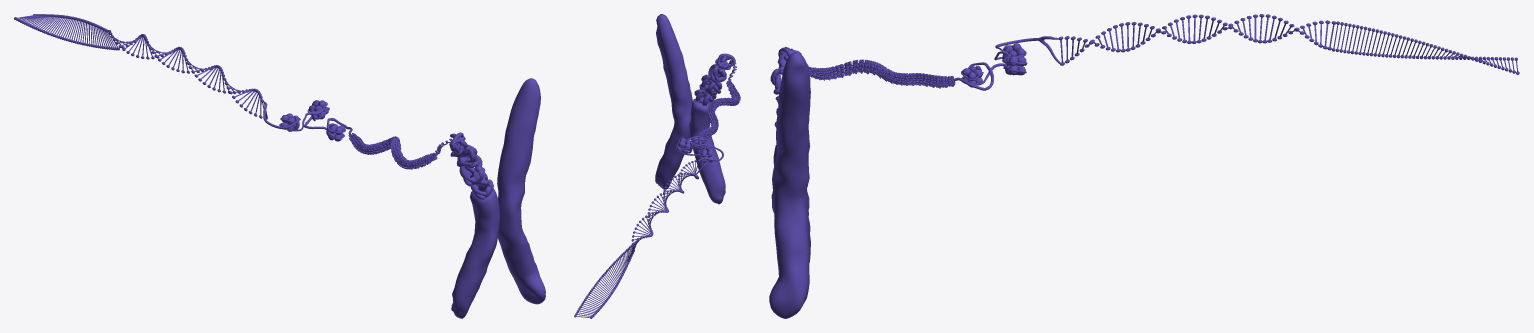
The model's file is nst_compressed.glb.
3 views of the same model, side by side, from view 1: azimuth 30°, elevation 25°; view 2: azimuth 150°, elevation 25°; view 3: azimuth 270°, elevation 25° (orthographic). The views are drawn at different scales.
Visible parts, largest first — view 1: poly, 0000_straight_DNA_straight_dna_M_0, poly1, 0010_nuclosome_helix_nuclosome_helix_M_0; view 2: poly, 0000_straight_DNA_straight_dna_M_0, poly1, 0010_nuclosome_helix_nuclosome_helix_M_0, 0009_histones_2_histone_two_0, 0008_histones_3_histone_three_0; view 3: poly, 0000_straight_DNA_straight_dna_M_0, 0010_nuclosome_helix_nuclosome_helix_M_0.
Part boxes in pixels (x1,y1,x2,y2): poly: (451, 78, 545, 318); 0000_straight_DNA_straight_dna_M_0: (14, 14, 117, 50); poly1: (449, 132, 494, 199); 0010_nuclosome_helix_nuclosome_helix_M_0: (262, 101, 352, 139); poly: (655, 14, 725, 204); 0000_straight_DNA_straight_dna_M_0: (574, 239, 638, 318); poly1: (694, 53, 735, 105); 0010_nuclosome_helix_nuclosome_helix_M_0: (676, 136, 723, 174); 0009_histones_2_histone_two_0: (676, 137, 690, 153); 0008_histones_3_histone_three_0: (701, 148, 714, 162); poly: (769, 52, 810, 318); 0000_straight_DNA_straight_dna_M_0: (1332, 21, 1519, 74); 0010_nuclosome_helix_nuclosome_helix_M_0: (954, 36, 1060, 90).
Bounding box in the file's own units: 28.93 × 27.69 × 71.03.
Materials: 2 (1 with a texture image).
